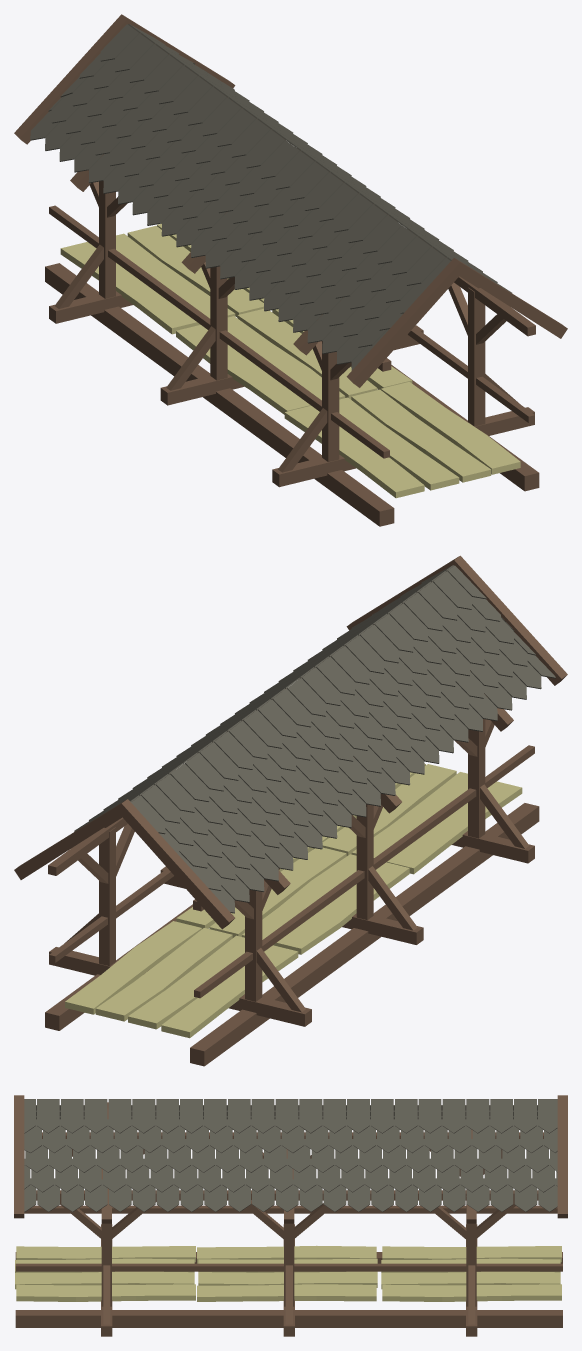
Rendered from Wood Bridge Span base.fbx.
3 renders of one model, top to bottom at view 1: azimuth 30°, elevation 25°; view 2: azimuth 150°, elevation 25°; view 3: azimuth 270°, elevation 25°, orthographic. The views are drawn at different scales.
Parts seen in each view (by area): view 1: Cube.555, Cube.054, Cube.552; view 2: Cube.555, Cube.054, Cube.552; view 3: Cube.555, Cube.054, Cube.552.
Boxes of the visible parts, <box> form: Cube.555: <box>30,24,511,370</box>; Cube.054: <box>14,14,567,526</box>; Cube.552: <box>60,223,520,498</box>; Cube.555: <box>74,565,555,913</box>; Cube.054: <box>14,555,567,1066</box>; Cube.552: <box>65,764,522,1038</box>; Cube.555: <box>24,1099,557,1211</box>; Cube.054: <box>14,1095,567,1336</box>; Cube.552: <box>15,1245,561,1301</box>.
Size of the model in its own units: 7.95 by 7.29 by 18.22.
